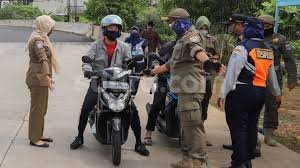motor: (85, 65, 145, 159)
